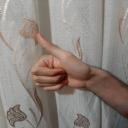ThumbsUp: (31, 31, 88, 97)
